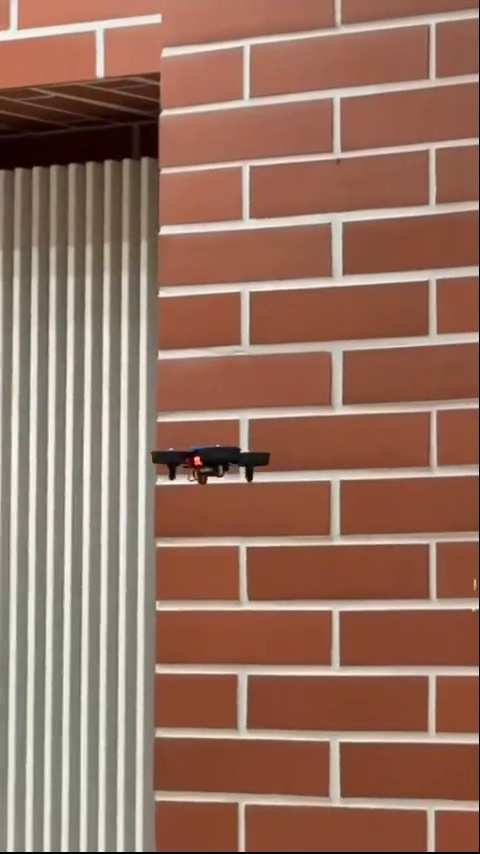drone: (141, 439, 280, 486)
